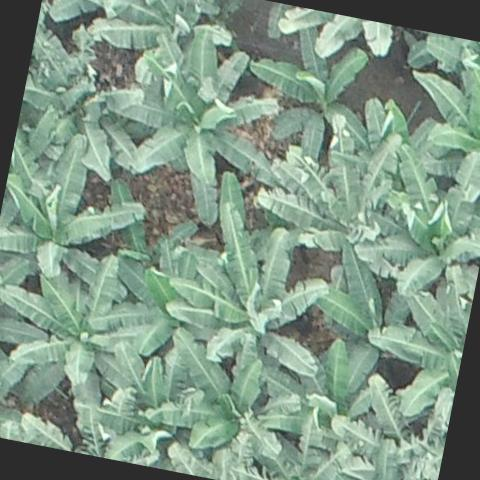Banana-plant: (81, 6, 308, 239), (243, 110, 457, 288), (154, 195, 348, 385), (0, 233, 186, 405), (222, 9, 395, 179), (0, 121, 161, 302), (142, 325, 325, 475), (10, 29, 165, 189), (347, 134, 480, 313), (352, 266, 476, 434), (310, 361, 456, 480), (391, 52, 480, 193), (66, 0, 241, 70)
